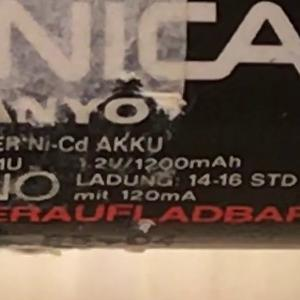keyword: (21, 128, 97, 153)
